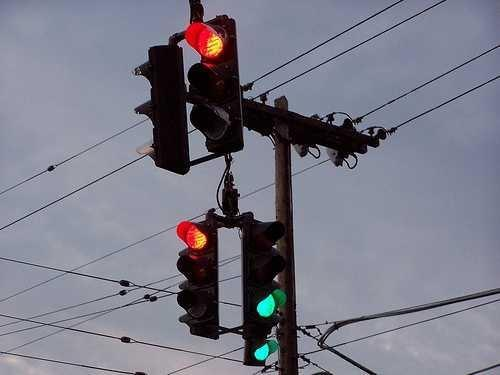2: (246, 212, 289, 324)
3: (182, 61, 236, 102), (192, 104, 238, 142), (176, 289, 215, 323), (256, 214, 287, 254), (180, 254, 214, 288), (254, 250, 287, 283)
5: (183, 16, 230, 61), (178, 219, 212, 252)
8: (178, 10, 239, 152), (172, 213, 220, 331)
red traffic light: (250, 288, 286, 324), (250, 338, 278, 366)
